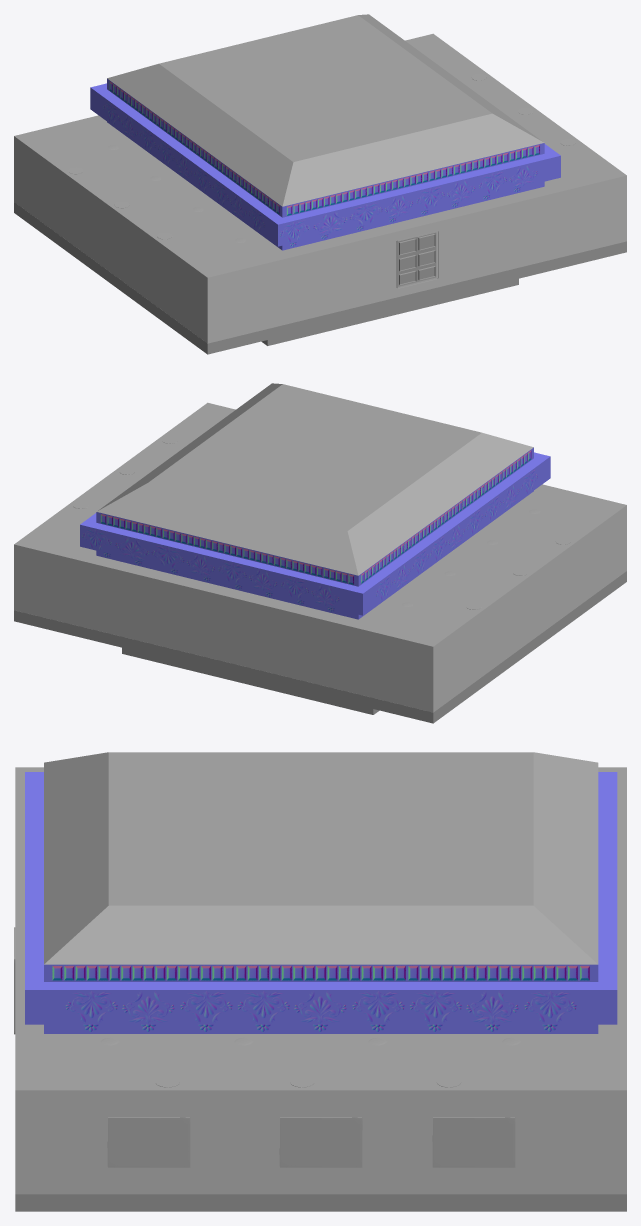
The model's file is gallerylighting.fbx.
The picture shows the model from 3 angles, top to bottom: view 1: azimuth 30°, elevation 25°; view 2: azimuth 150°, elevation 25°; view 3: azimuth 270°, elevation 25°; orthographic projection. The views are drawn at different scales.
Parts seen in each view (by area): view 1: pasted__polySurface19, pasted__pasted__polySurface19, pasted__pPlane64, floor1, pasted__pPlane59, pasted__pPlane58, pasted__pPlane57, pasted__wall94, pasted__wall95, pasted__wall90, pasted__wall91, pasted__wall92 (+42 smaller); view 2: pasted__polySurface19, pasted__pasted__polySurface19, polySurface22, floor1, pasted__pPlane59, pasted__pPlane58, pasted__wall96, pasted__pPlane57, pasted__wall85, pasted__wall84, pasted__wall82, pasted__wall81 (+41 smaller); view 3: pasted__polySurface19, pasted__pasted__polySurface19, pasted__pPlane60, pasted__pPlane62, planemidfront_low12, planemidfront_low11, planemidfront_low13, floor1, pasted__wall88, pasted__wall87, pasted__pPlane61, pasted__wall86 (+31 smaller).
Boxes of the visible parts, left/top/right/bottom form: pasted__polySurface19: left=107, top=14, right=543, bottom=206; pasted__pasted__polySurface19: left=114, top=15, right=542, bottom=203; pasted__pPlane64: left=293, top=145, right=539, bottom=247; floor1: left=14, top=202, right=626, bottom=354; pasted__pPlane59: left=15, top=115, right=166, bottom=186; pasted__pPlane58: left=84, top=166, right=230, bottom=233; pasted__pPlane57: left=147, top=213, right=290, bottom=277; pasted__wall94: left=291, top=242, right=354, bottom=322; pasted__wall95: left=228, top=257, right=291, bottom=338; pasted__wall90: left=543, top=180, right=605, bottom=261; pasted__wall91: left=480, top=196, right=542, bottom=276; pasted__wall92: left=417, top=211, right=480, bottom=292; pasted__polySurface19: left=96, top=383, right=533, bottom=575; pasted__pasted__polySurface19: left=102, top=384, right=530, bottom=573; polySurface22: left=101, top=514, right=347, bottom=616; floor1: left=14, top=571, right=626, bottom=723; pasted__pPlane59: left=350, top=575, right=502, bottom=646; pasted__pPlane58: left=419, top=529, right=565, bottom=595; pasted__wall96: left=381, top=629, right=457, bottom=712; pasted__pPlane57: left=483, top=484, right=626, bottom=548; pasted__wall85: left=66, top=557, right=129, bottom=638; pasted__wall84: left=129, top=573, right=192, bottom=653; pasted__wall82: left=255, top=603, right=317, bottom=684; pasted__wall81: left=318, top=618, right=380, bottom=699; pasted__polySurface19: left=44, top=752, right=598, bottom=964; pasted__pasted__polySurface19: left=44, top=752, right=598, bottom=964; pasted__pPlane60: left=407, top=1034, right=626, bottom=1090; pasted__pPlane62: left=15, top=1034, right=234, bottom=1090; planemidfront_low12: left=235, top=964, right=407, bottom=1033; planemidfront_low11: left=407, top=964, right=579, bottom=1033; planemidfront_low13: left=63, top=964, right=234, bottom=1033; floor1: left=15, top=1194, right=626, bottom=1211; pasted__wall88: left=206, top=1090, right=320, bottom=1194; pasted__wall87: left=321, top=1090, right=435, bottom=1194; pasted__pPlane61: left=235, top=1034, right=407, bottom=1090; pasted__wall86: left=436, top=1090, right=550, bottom=1194.
Size of the model in its own units: 20.02 by 7.85 by 16.03.
